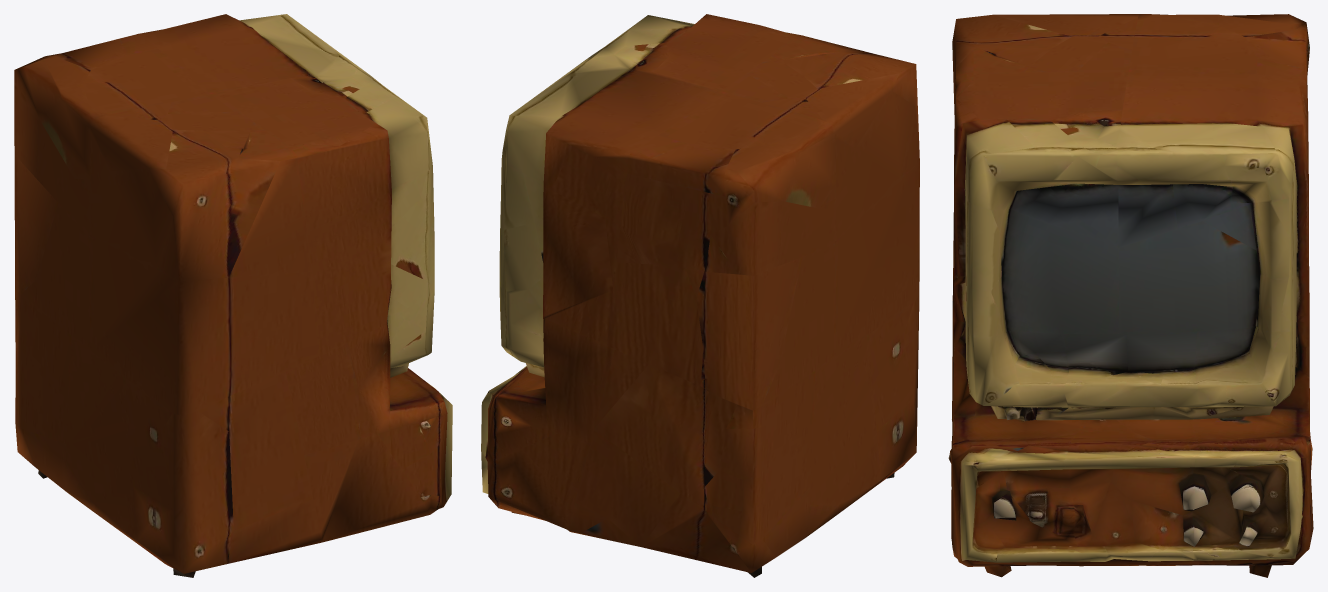
Rendered from terminal.glb.
3 renders of one model, left to right at view 1: azimuth 30°, elevation 25°; view 2: azimuth 150°, elevation 25°; view 3: azimuth 270°, elevation 25°, orthographic. The views are drawn at different scales.
Visible parts, largest first — view 1: tripo_node_b93602d8-d8dc-4b49-ba58-dab7a120fa94; view 2: tripo_node_b93602d8-d8dc-4b49-ba58-dab7a120fa94; view 3: tripo_node_b93602d8-d8dc-4b49-ba58-dab7a120fa94.
Boxes of the visible parts, x1,y1,x2,y2 form: tripo_node_b93602d8-d8dc-4b49-ba58-dab7a120fa94: (14, 14, 452, 577); tripo_node_b93602d8-d8dc-4b49-ba58-dab7a120fa94: (481, 14, 919, 577); tripo_node_b93602d8-d8dc-4b49-ba58-dab7a120fa94: (948, 14, 1313, 577).
Size of the model in its own units: 0.7248 by 0.9773 by 0.7487.
1 material, 1 textured.
